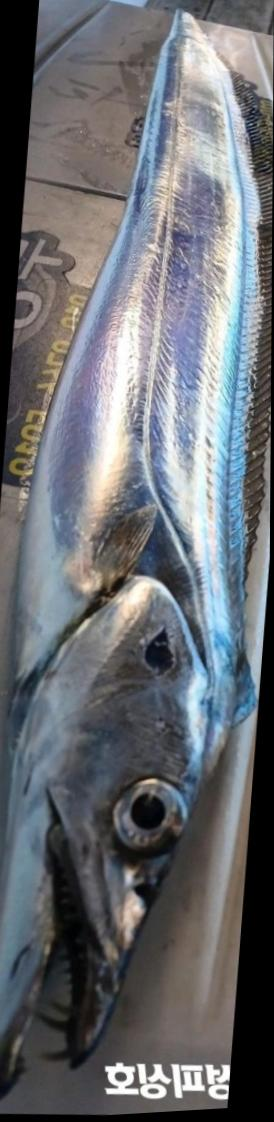fish: (0, 14, 273, 1095)
